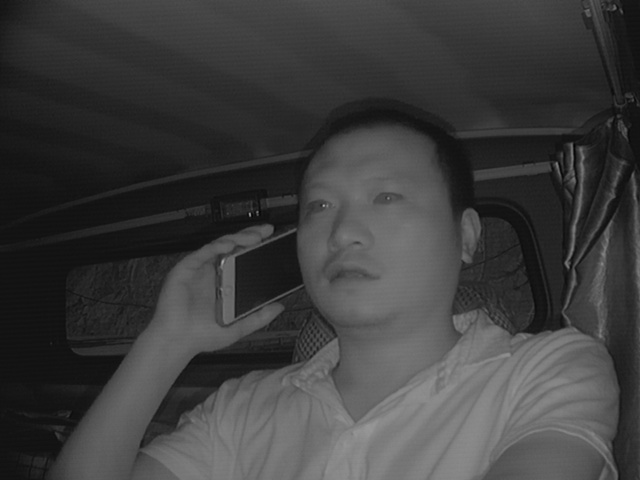hand: (156, 219, 285, 353)
